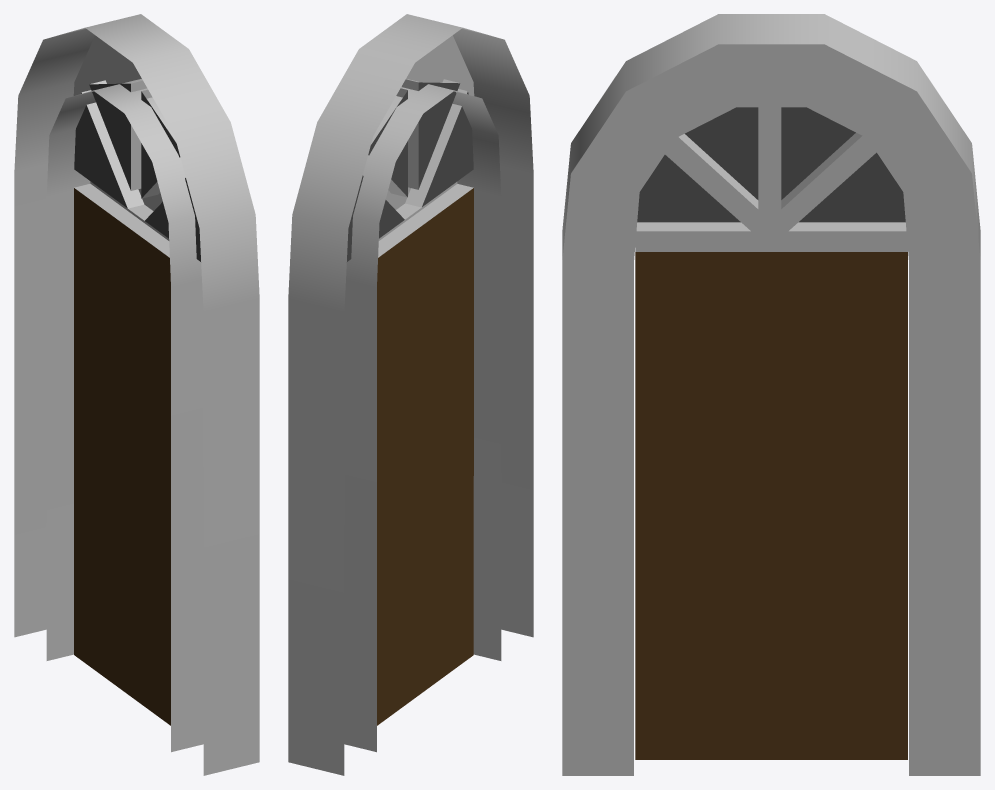
Rendered from Door3.fbx.
3 views of the same model, side by side, from view 1: azimuth 30°, elevation 25°; view 2: azimuth 150°, elevation 25°; view 3: azimuth 270°, elevation 25° (orthographic). The views are drawn at different scales.
Visible parts, largest first — view 1: door3_combined; view 2: door3_combined; view 3: door3_combined.
Part boxes in pixels (x1,y1,x2,y2): door3_combined: [14, 14, 259, 775]; door3_combined: [288, 14, 533, 775]; door3_combined: [562, 14, 980, 775].
Size of the model in its own units: 0.2515 by 2.83 by 1.47.
